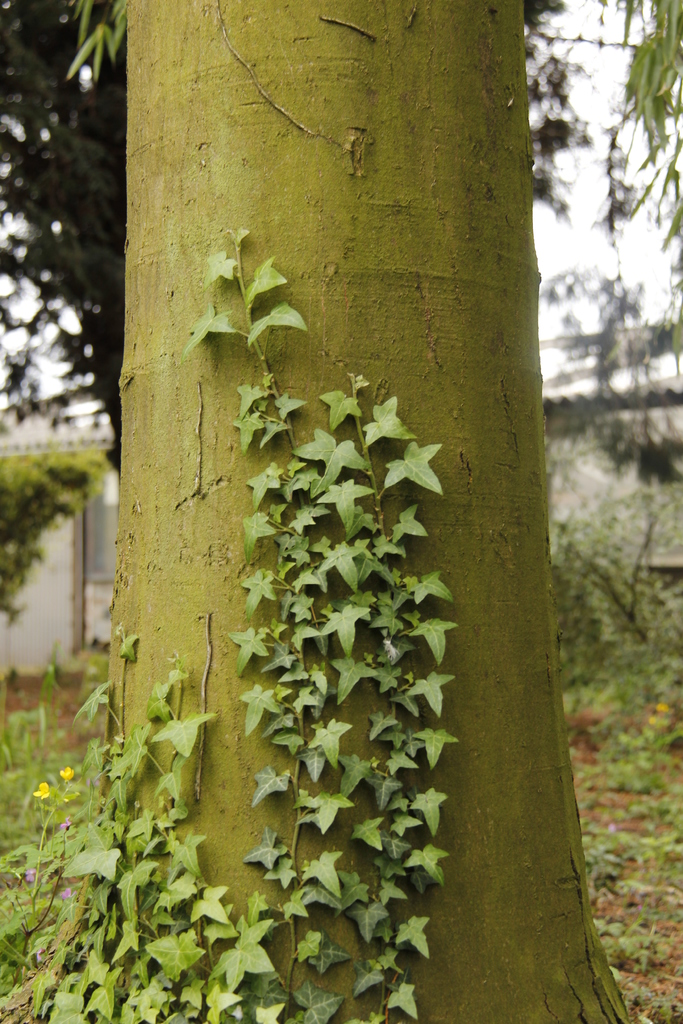Tree: (0, 0, 683, 1024), (0, 0, 596, 475)
